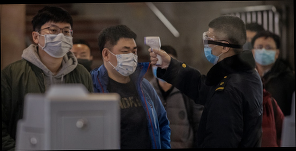with_mask: (38, 24, 74, 59), (111, 45, 139, 77), (203, 30, 224, 66), (253, 41, 278, 67), (70, 49, 92, 70)
